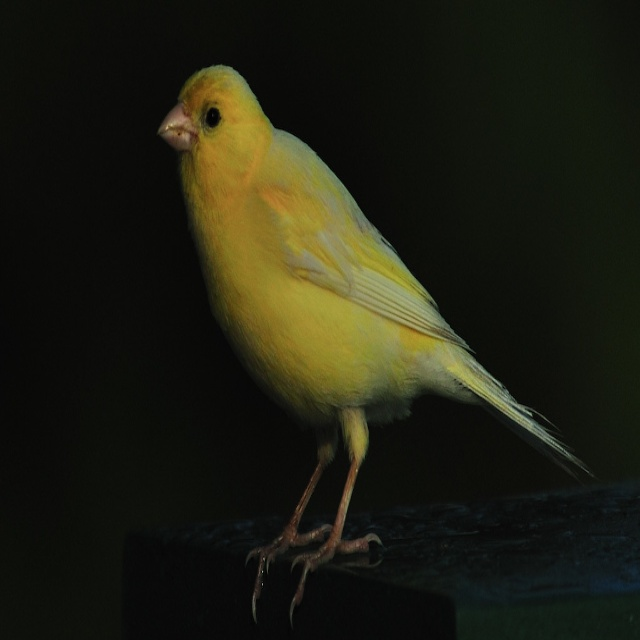Canary: (157, 64, 597, 630)
